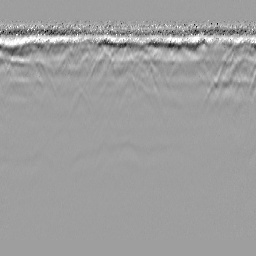cavity: (117, 70, 139, 103)
